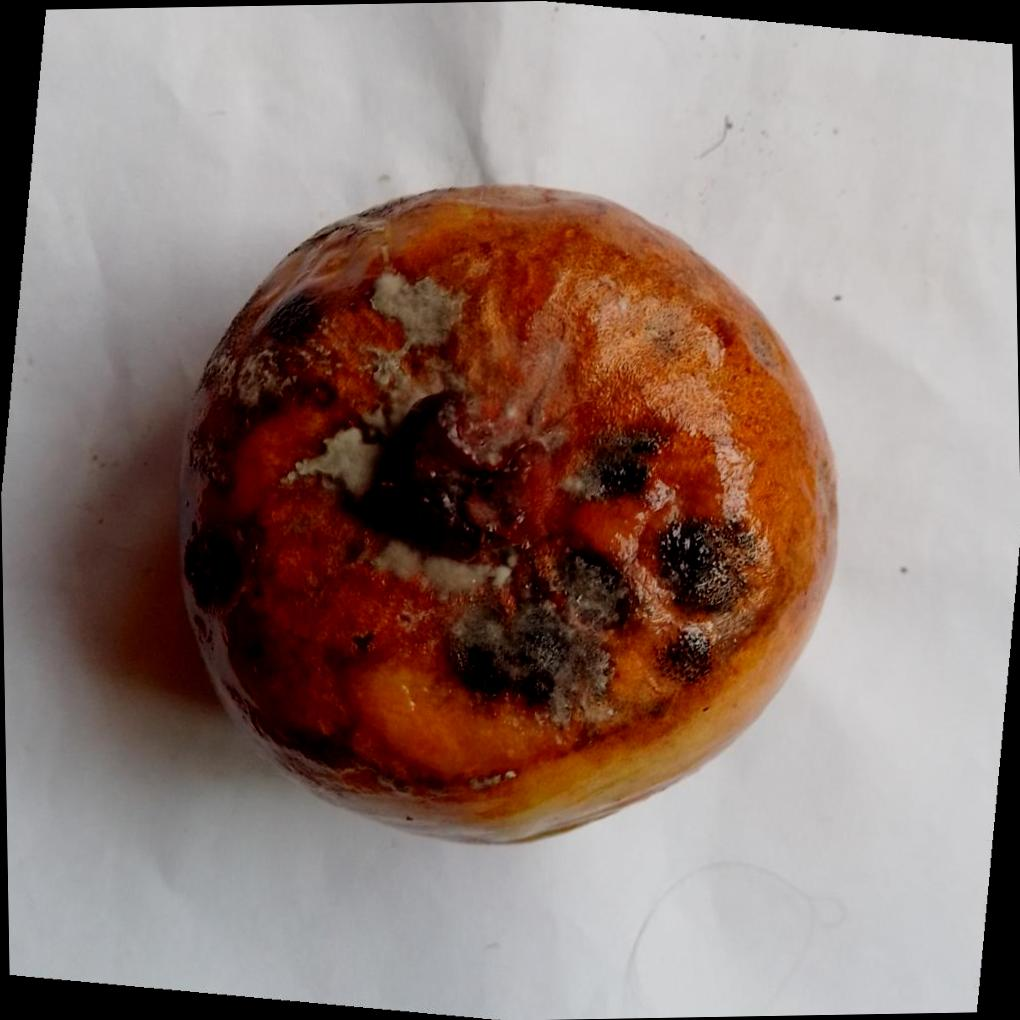FreshOrange: (177, 178, 838, 843)
